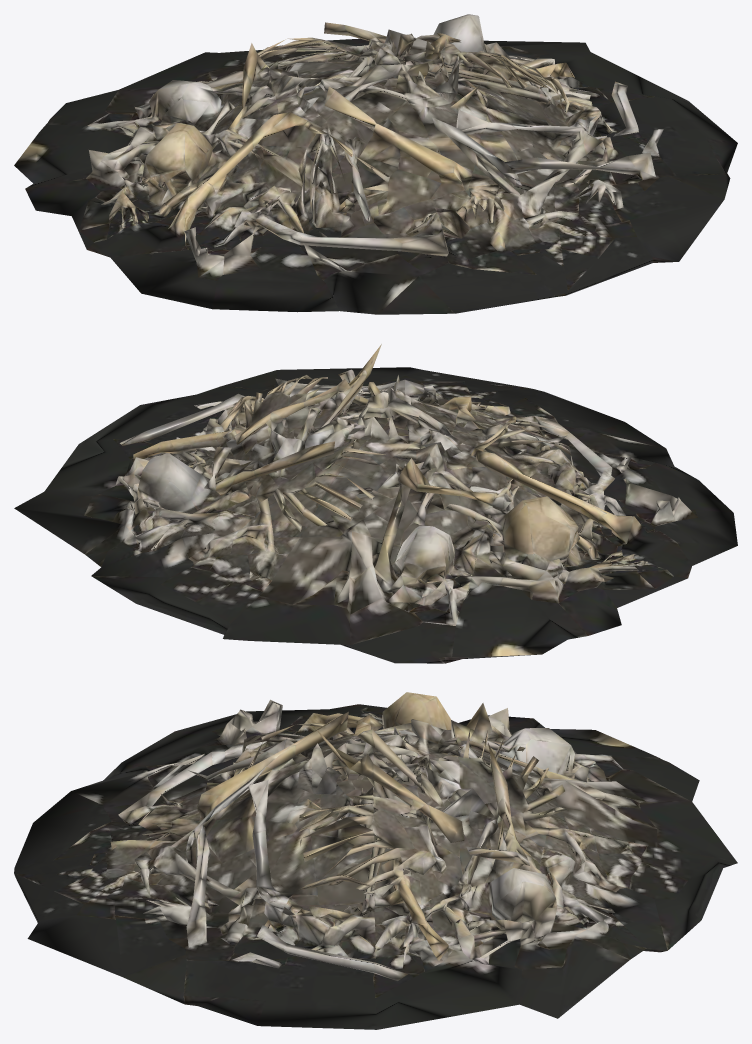
File: bone_pile.f3d6da34.glb
The picture shows the model from 3 angles, top to bottom: view 1: azimuth 30°, elevation 25°; view 2: azimuth 150°, elevation 25°; view 3: azimuth 270°, elevation 25°; orthographic projection. The views are drawn at different scales.
Parts seen in each view (by area): view 1: bone_pile; view 2: bone_pile; view 3: bone_pile.
Boxes of the visible parts, box(x1,y1,x2,y2) form: bone_pile: box(14, 14, 737, 314); bone_pile: box(14, 344, 737, 663); bone_pile: box(14, 692, 737, 1029).
Bounding box in the file's own units: 0.9096 × 0.2113 × 0.8727.
Materials: 1 (1 with a texture image).
